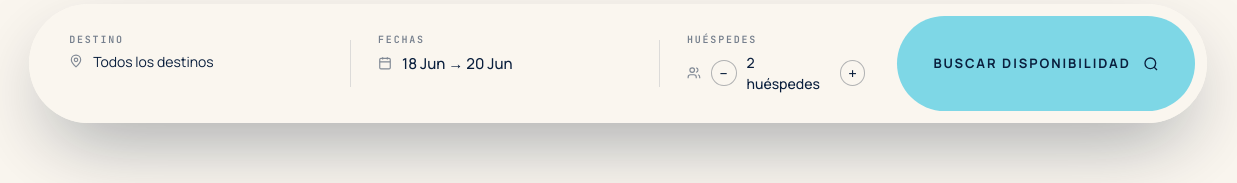
SearchWidget Integration › Guest Count › decrements guest count
Click the button named "Menos" at (724, 73), box [711,60,736,86]
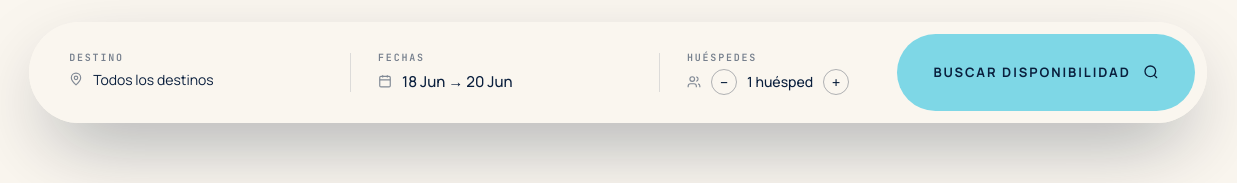
Expected: the text "1 huésped" is shown, [747,71,813,93]
